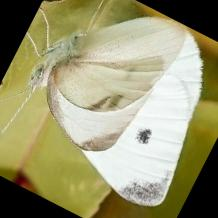butterfly: (28, 16, 202, 205)
